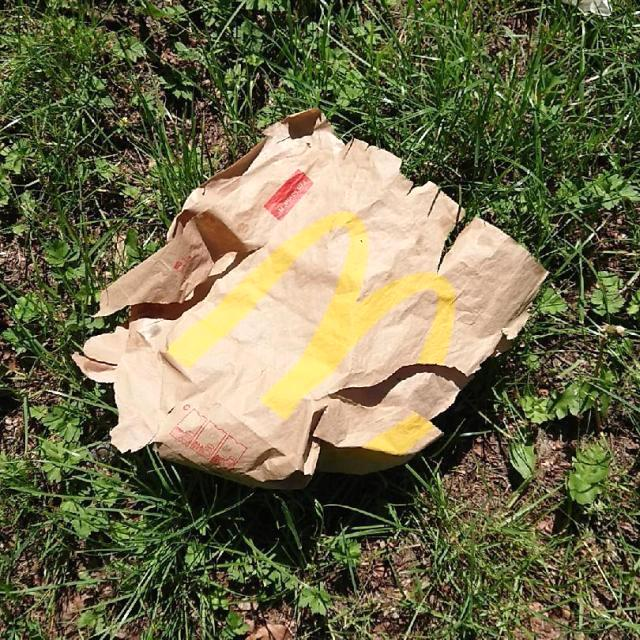Paper: (69, 106, 553, 498)
